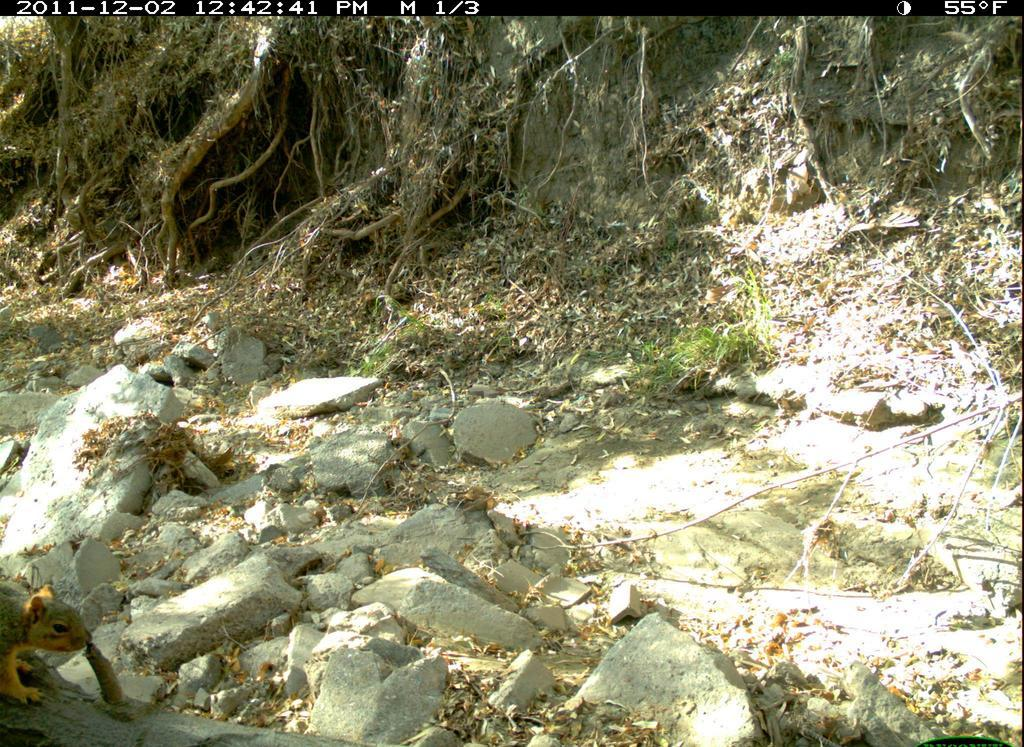squirrel: (3, 556, 107, 722)
